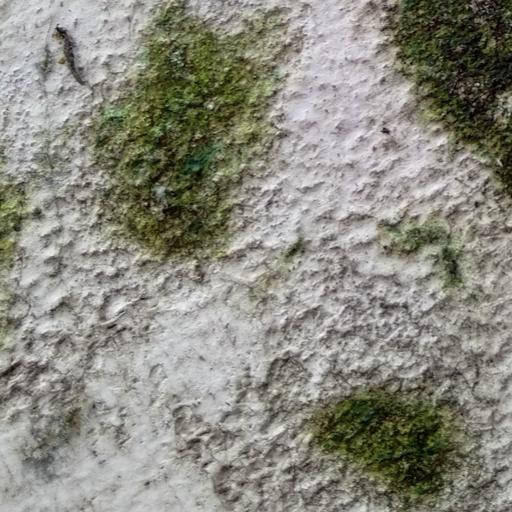algae: (84, 8, 480, 501)
